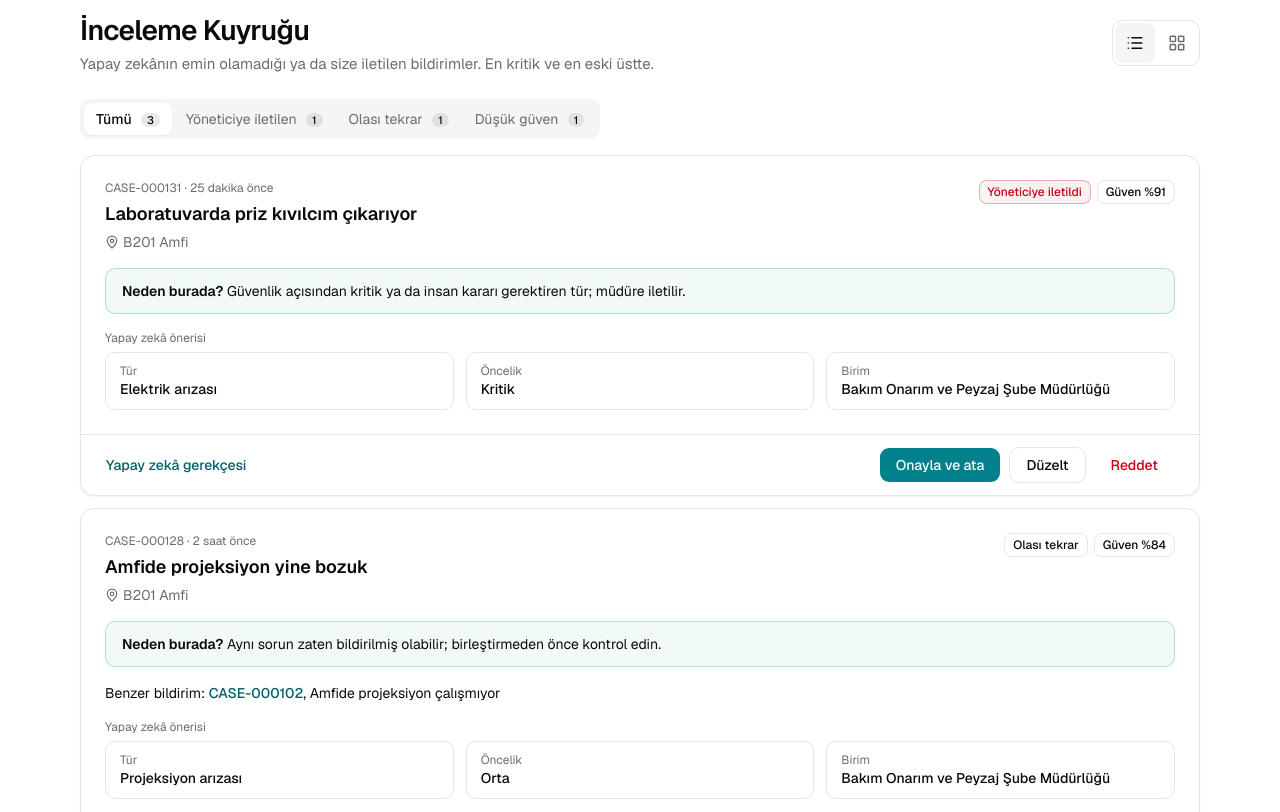
Test: ReviewQueue › filters the queue by reason with counted tabs
The width and height of the screenshot is (1280, 812).
What coordinates should you click on to do the following:
click the button "Olası tekrar 1"
I would click on:
 (399, 119)
Its box is [336,103,461,135].
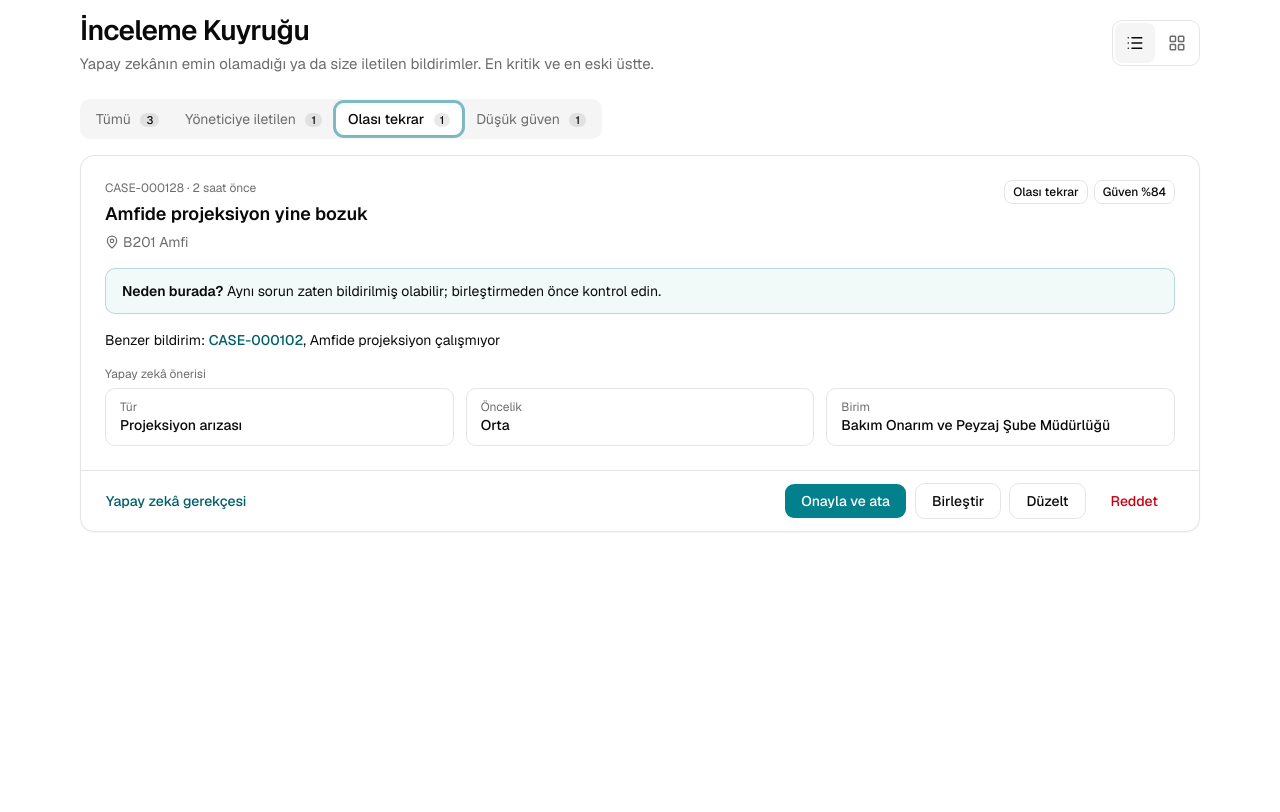
Expected: the element "Amfide projeksiyon yine bozuk" is shown, [80,155,1200,532]
Result: the heading "Laboratuvarda priz kıvılcım çıkarıyor" is gone
